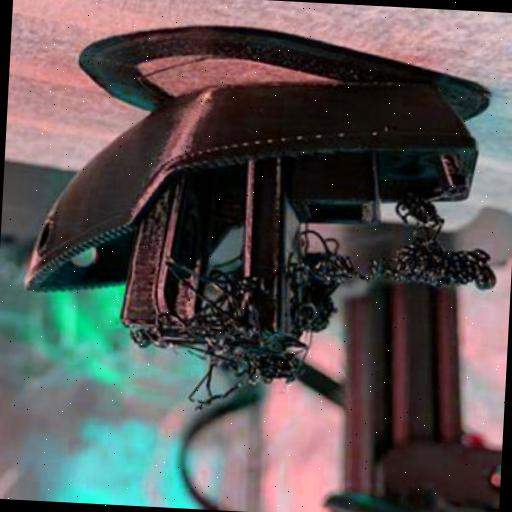spaghetti: (127, 222, 368, 424), (364, 196, 502, 298)
